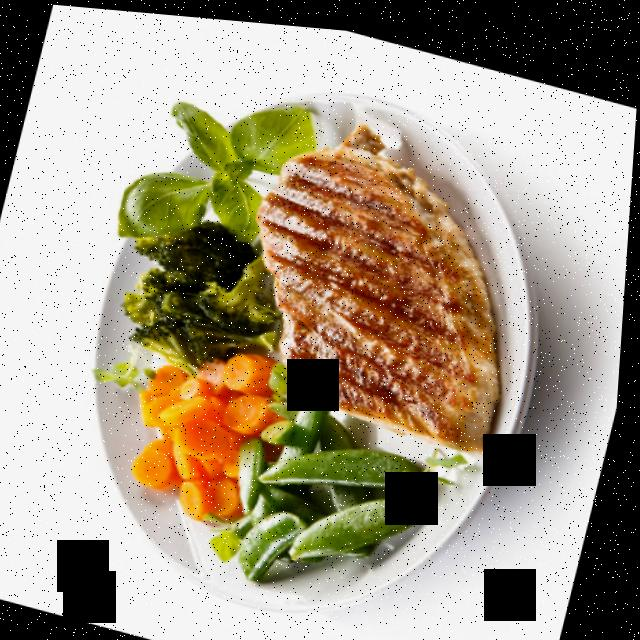Frango: (212, 91, 561, 453)
